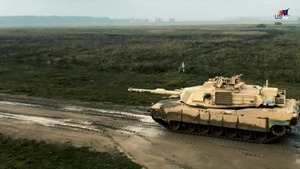abrams: (129, 77, 298, 139)
